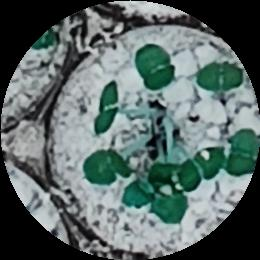Basil: (135, 44, 182, 93), (176, 143, 226, 187), (120, 163, 167, 206), (80, 151, 130, 183), (230, 125, 260, 178), (93, 81, 123, 132), (195, 63, 244, 93), (143, 190, 186, 222)
